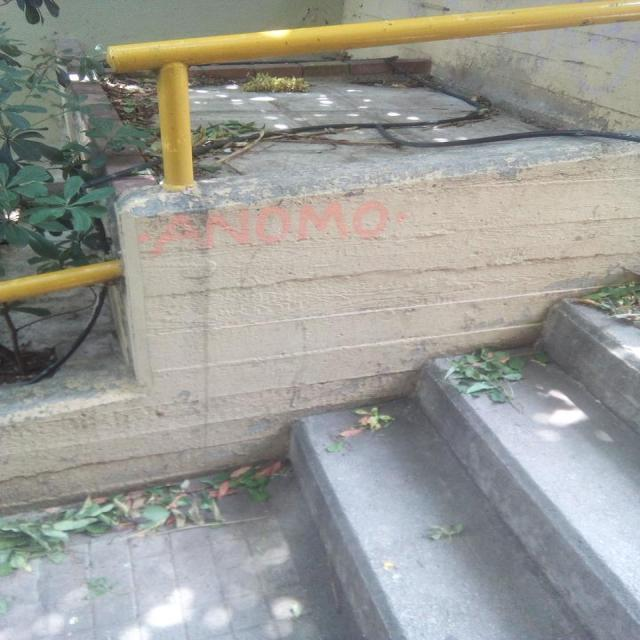nonspitting: (135, 200, 413, 254)
